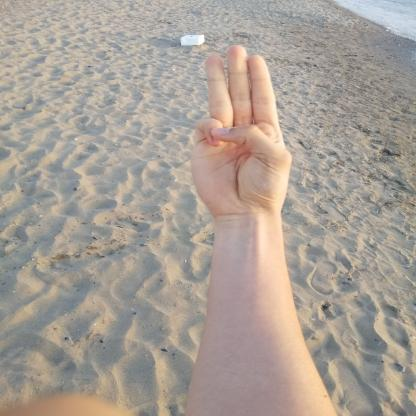THA: (176, 36, 310, 226)
